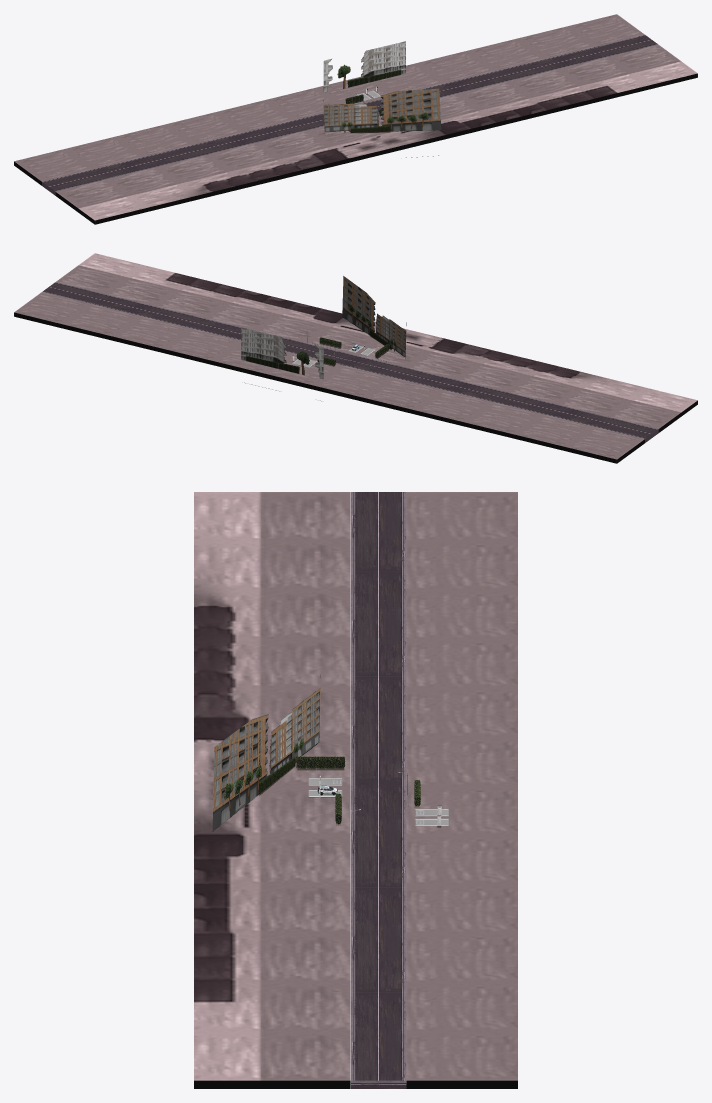
The model's file is colony_juden_v6.glb.
3 renders of one model, top to bottom at view 1: azimuth 30°, elevation 25°; view 2: azimuth 150°, elevation 25°; view 3: azimuth 270°, elevation 25°, orthographic. The views are drawn at different scales.
Visible parts, largest first — view 1: road_side, road, bg_soden.001, bg_soden; view 2: road_side, road, bg_soden.001, bg_soden, uekomi_bake; view 3: road_side, road, bg_soden.001, uekomi_bake, parking_base.005.
Part boxes in pixels (x1=…): road_side: x1=14, y1=14, x2=697, y2=224; road: x1=42, y1=34, x2=658, y2=195; bg_soden.001: x1=323, y1=88, x2=441, y2=157; bg_soden: x1=323, y1=41, x2=405, y2=92; road_side: x1=14, y1=253, x2=697, y2=463; road: x1=42, y1=282, x2=658, y2=442; bg_soden.001: x1=342, y1=276, x2=406, y2=358; bg_soden: x1=241, y1=327, x2=323, y2=401; uekomi_bake: x1=317, y1=337, x2=389, y2=366; road_side: x1=194, y1=492, x2=517, y2=1088; road: x1=351, y1=492, x2=406, y2=1088; bg_soden.001: x1=212, y1=675, x2=320, y2=831; uekomi_bake: x1=296, y1=756, x2=420, y2=825; parking_base.005: x1=308, y1=778, x2=448, y2=825.
Bounding box in the file's own units: 300 × 34.2 × 69.77.
21 materials, 17 textured.
